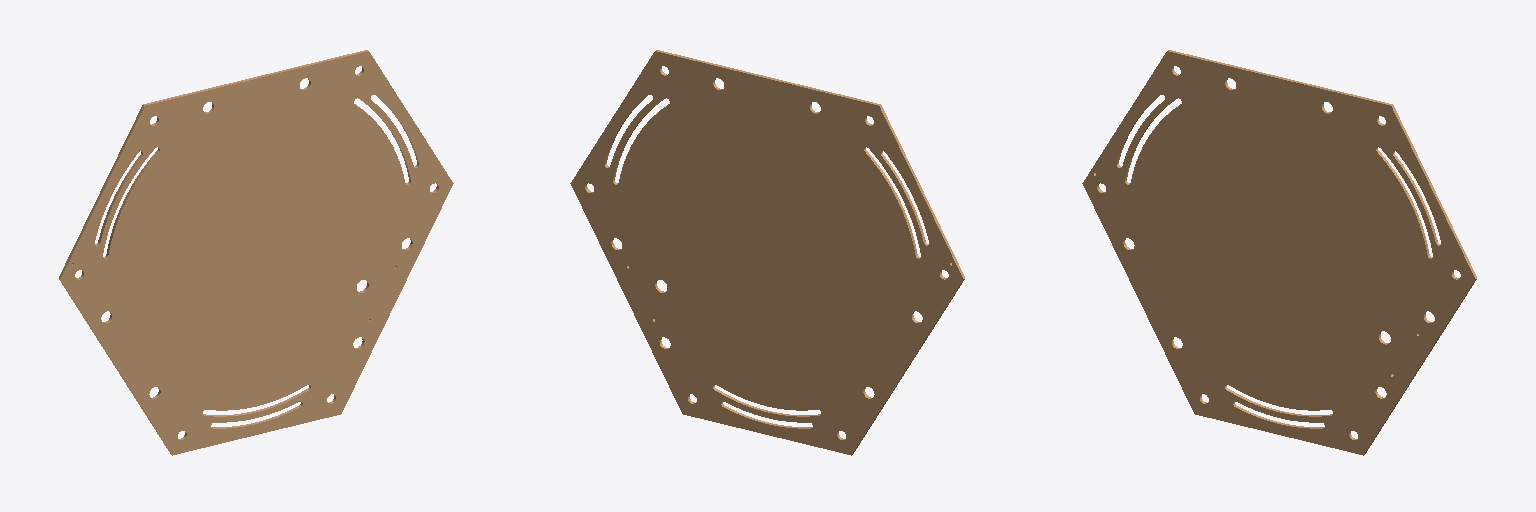
File: Molestock-milled_plate-v01.obj
The picture shows the model from 3 angles: view 1: azimuth 30°, elevation 25°; view 2: azimuth 150°, elevation 25°; view 3: azimuth 330°, elevation 25°; orthographic projection.
Visible parts, largest first — view 1: Molestock-milled_plate-v01\deska trojuhelnik; view 2: Molestock-milled_plate-v01\deska trojuhelnik; view 3: Molestock-milled_plate-v01\deska trojuhelnik.
Part boxes in pixels (x1,y1,x2,y2): Molestock-milled_plate-v01\deska trojuhelnik: (59, 50, 453, 455); Molestock-milled_plate-v01\deska trojuhelnik: (570, 50, 964, 455); Molestock-milled_plate-v01\deska trojuhelnik: (1082, 50, 1476, 455).
Size of the model in its own units: 351 by 304 by 3.